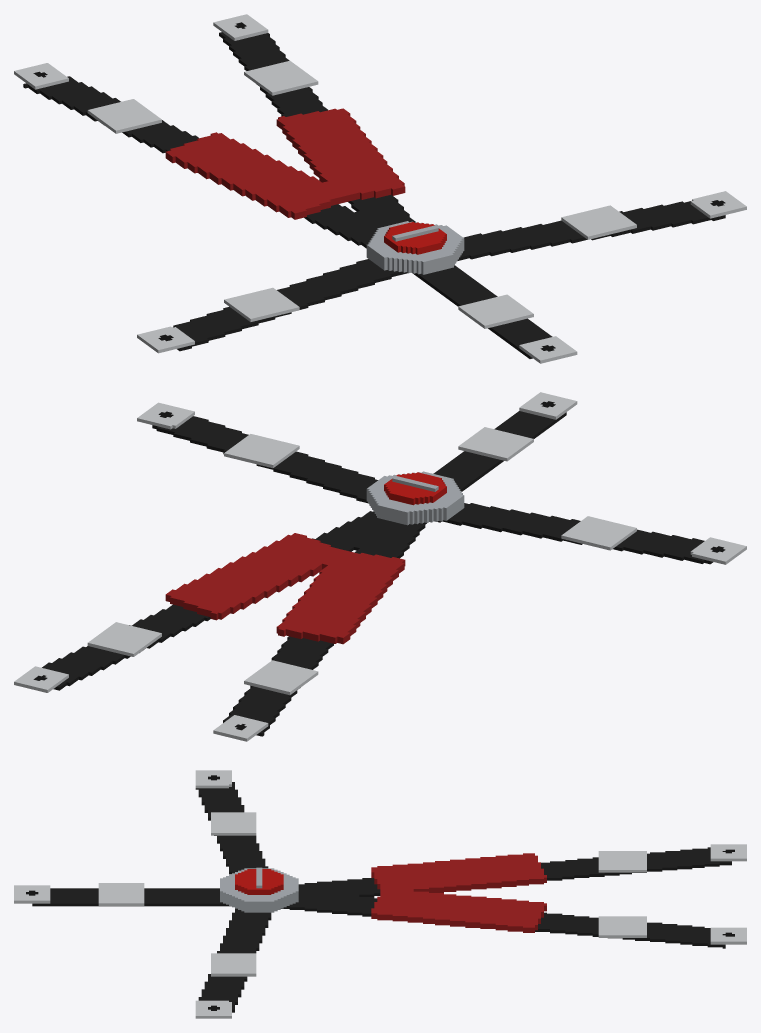
Rendered from five_point_harness.glb.
3 renders of one model, top to bottom at view 1: azimuth 30°, elevation 25°; view 2: azimuth 150°, elevation 25°; view 3: azimuth 270°, elevation 25°, orthographic. The views are drawn at different scales.
Parts seen in each view (by area): view 1: five_point_harness:compound; view 2: five_point_harness:compound; view 3: five_point_harness:compound.
Part boxes in pixels (box(x1,y1,x2,y2)): five_point_harness:compound: box(14, 14, 746, 363); five_point_harness:compound: box(14, 392, 746, 741); five_point_harness:compound: box(14, 770, 746, 1018).
Size of the model in its own units: 0.768 by 0.032 by 0.968.
